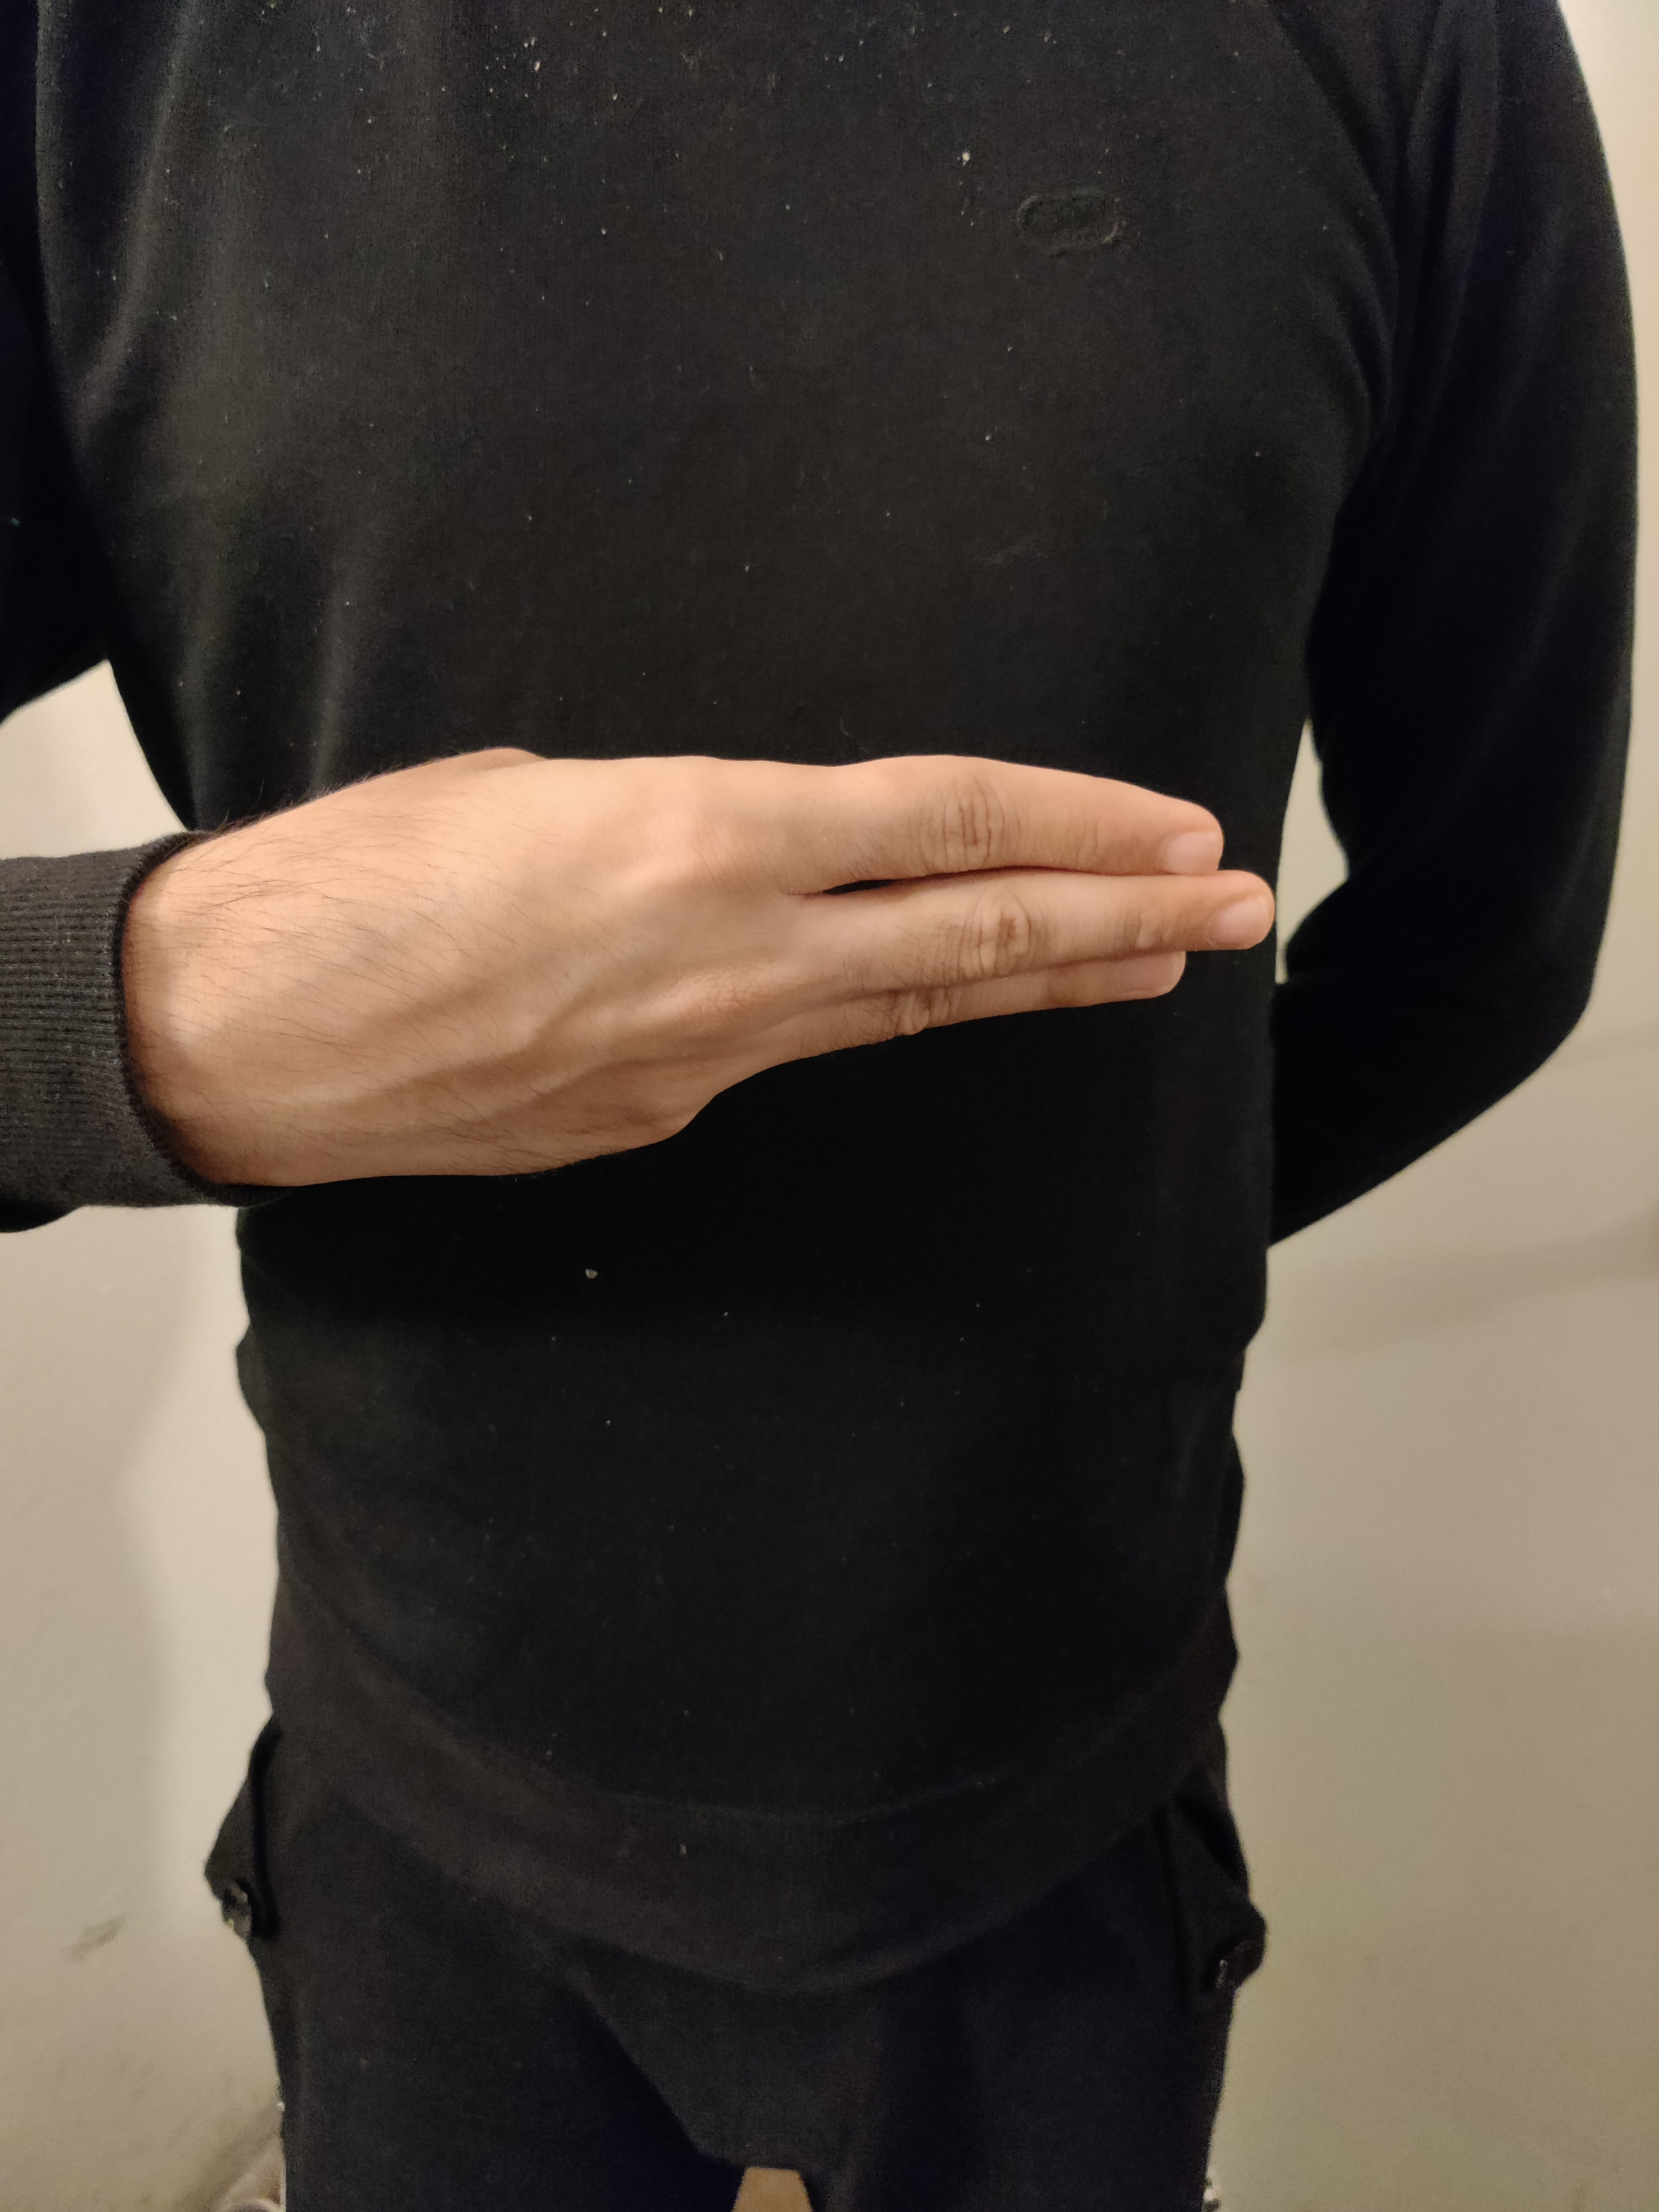left: (63, 402, 1499, 1623)
